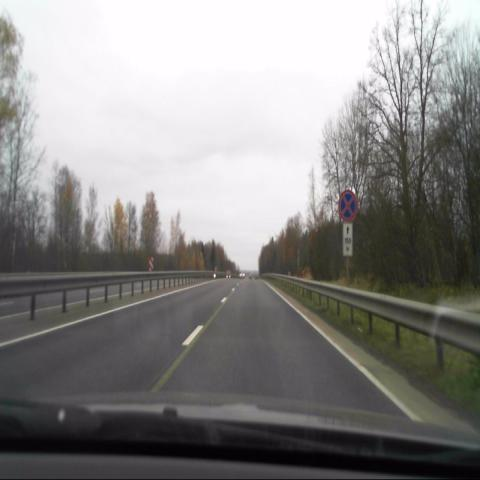8_2_2: (342, 221, 353, 256)
